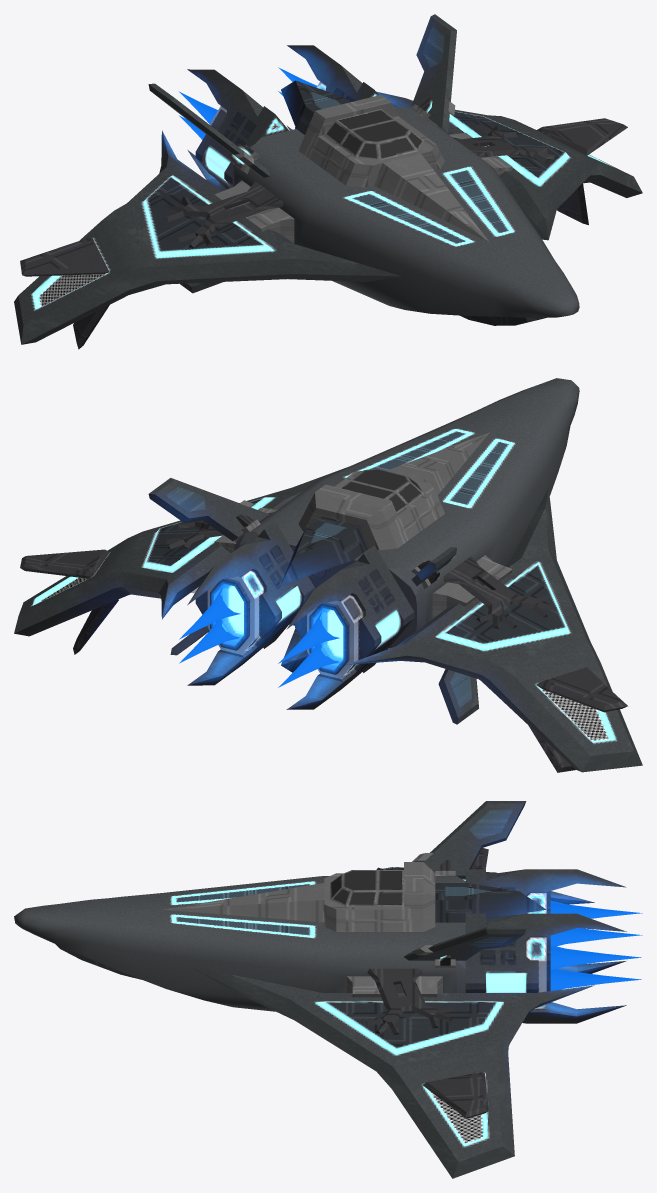
The model's file is virtuosity.gltf.
The picture shows the model from 3 angles, top to bottom: view 1: azimuth 30°, elevation 25°; view 2: azimuth 150°, elevation 25°; view 3: azimuth 270°, elevation 25°; orthographic projection. The views are drawn at different scales.
Parts seen in each view (by area): view 1: base_glow, Engine.001; view 2: base_glow, Engine.001; view 3: base_glow, Engine.001.
Boxes of the visible parts, x1,y1,x2,y2 form: base_glow: [14, 14, 642, 349]; Engine.001: [179, 67, 317, 139]; base_glow: [14, 378, 642, 772]; Engine.001: [179, 588, 339, 687]; base_glow: [14, 801, 626, 1178]; Engine.001: [550, 900, 642, 990].
Size of the model in its own units: 8.14 by 2.6 by 7.78.
2 materials, 1 textured.
